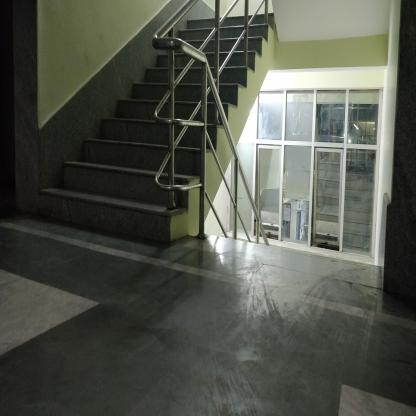stairs: (106, 115, 155, 238)
